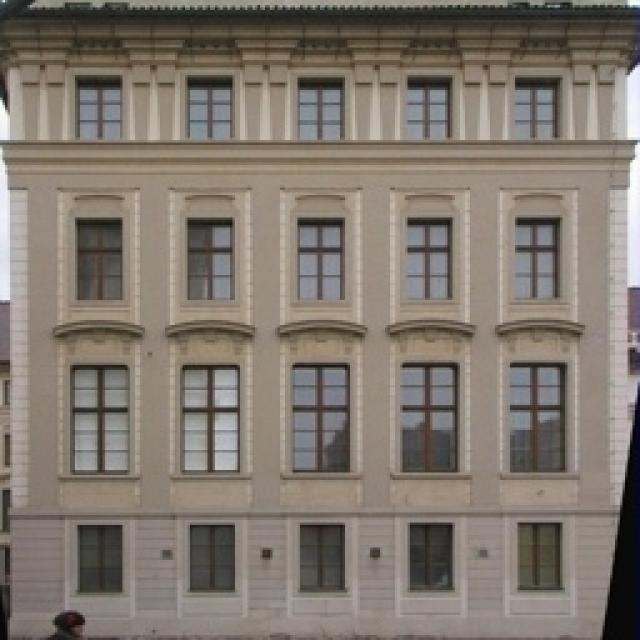building: (2, 0, 610, 640)
